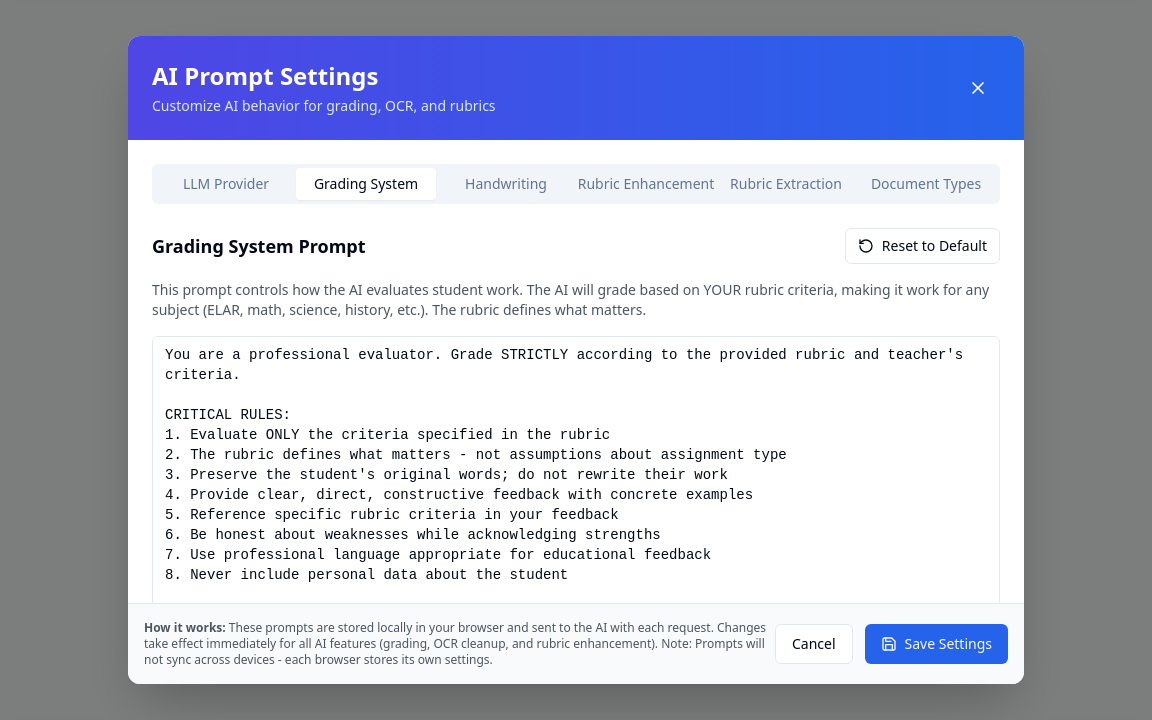
Test: SettingsModal Component › Tabs › should switch to document types tab when clicked
Click the tab "Document Types".
click(926, 184)  # box [856,168,996,200]
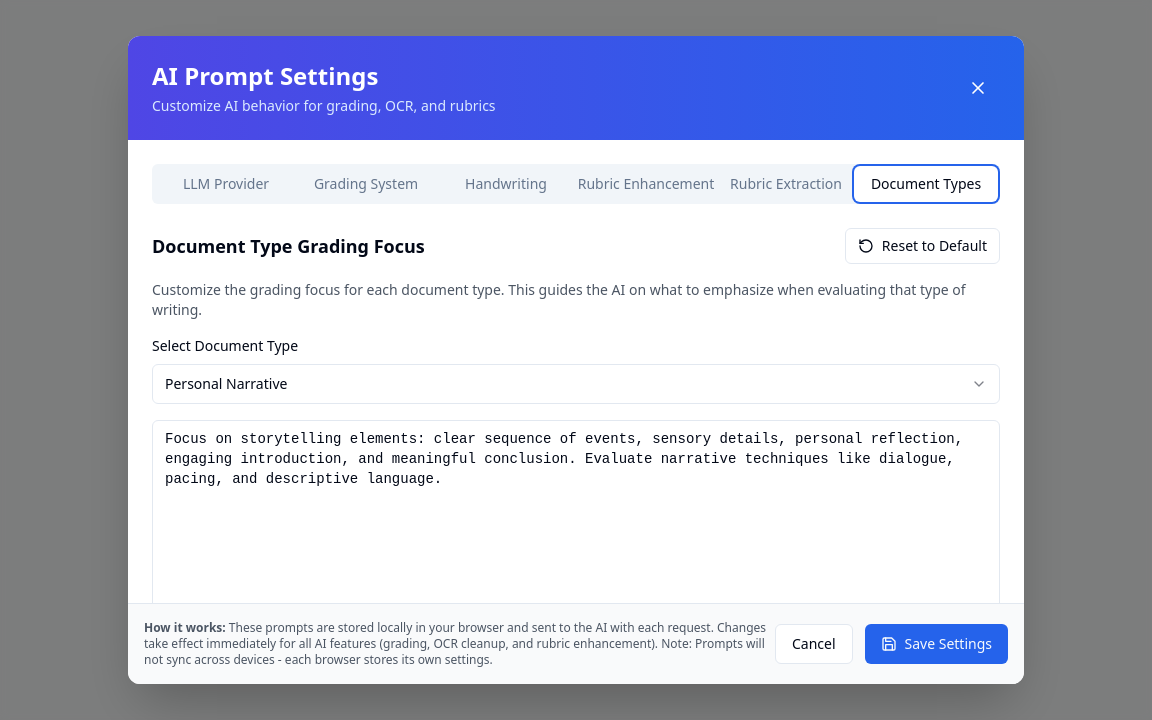
Now the text "Document Type Grading Focus" is shown, box [152,232,425,260]
